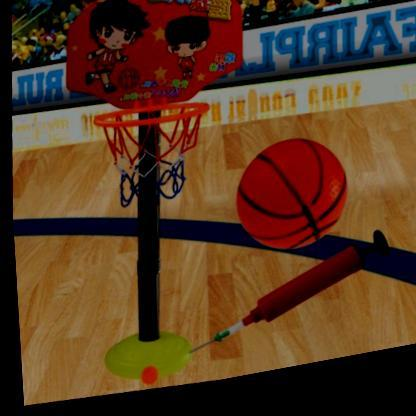basketball: (227, 139, 348, 270)
rim: (87, 100, 210, 221)
